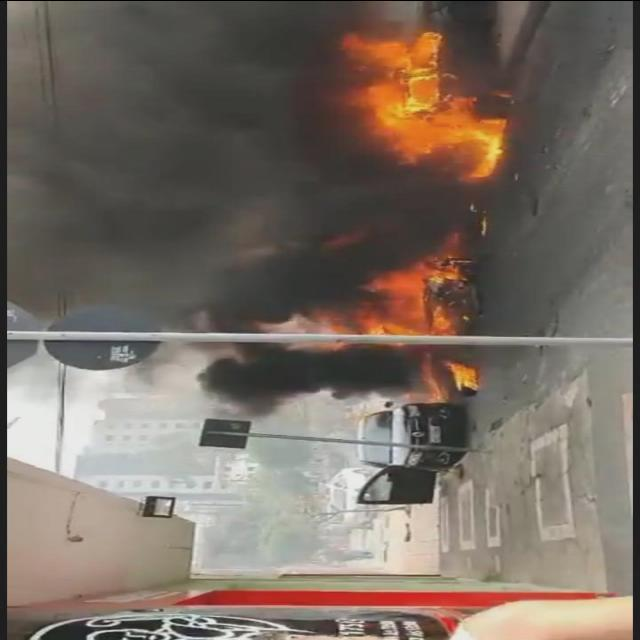Fire: (343, 23, 507, 187), (290, 262, 460, 342), (441, 362, 483, 388)
